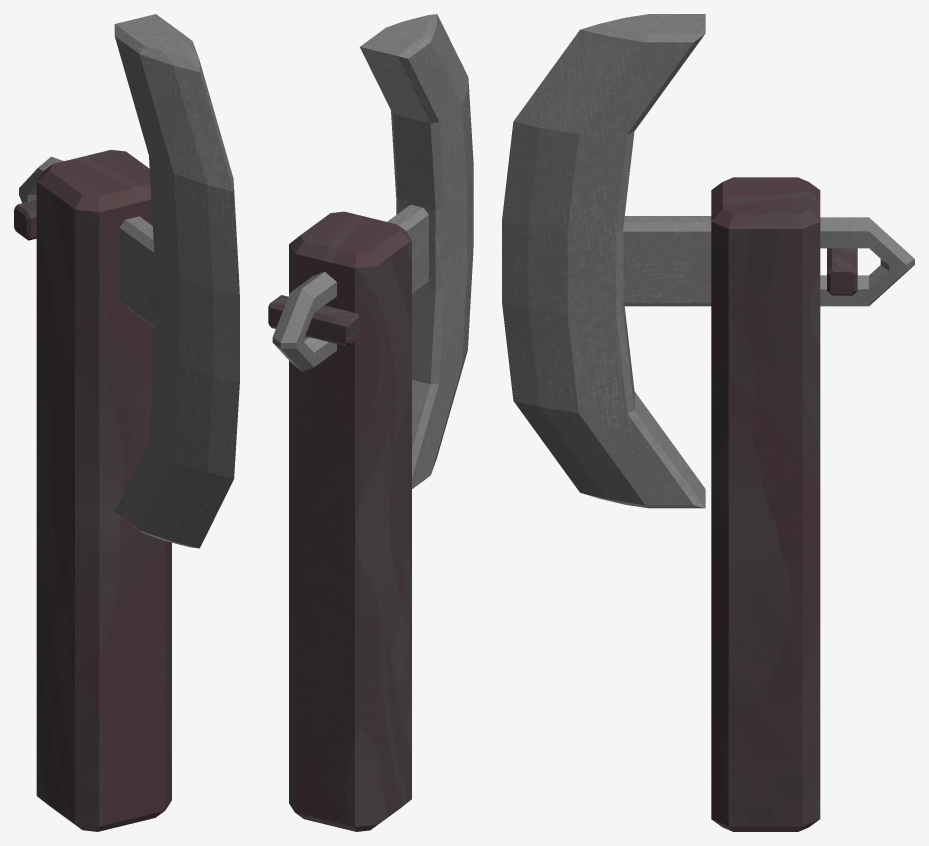
File: Axe.fbx
3 views of the same model, side by side, from view 1: azimuth 30°, elevation 25°; view 2: azimuth 150°, elevation 25°; view 3: azimuth 270°, elevation 25° (orthographic). The views are drawn at different scales.
Visible parts, largest first — view 1: axe; view 2: axe; view 3: axe.
Part boxes in pixels (left/top/right/bottom): axe: left=14, top=14, right=239, bottom=831; axe: left=268, top=14, right=473, bottom=831; axe: left=502, top=14, right=914, bottom=831.
Bounding box in the file's own units: 10.48 × 83.74 × 39.66.
